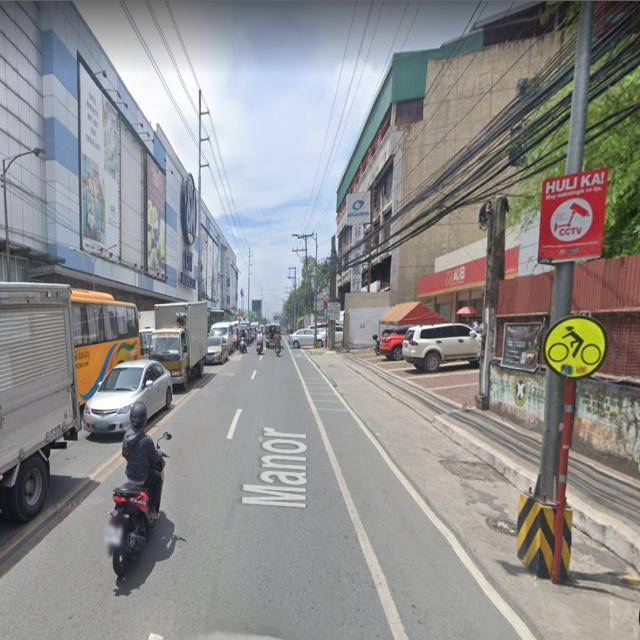bike lane: (540, 309, 609, 385)
